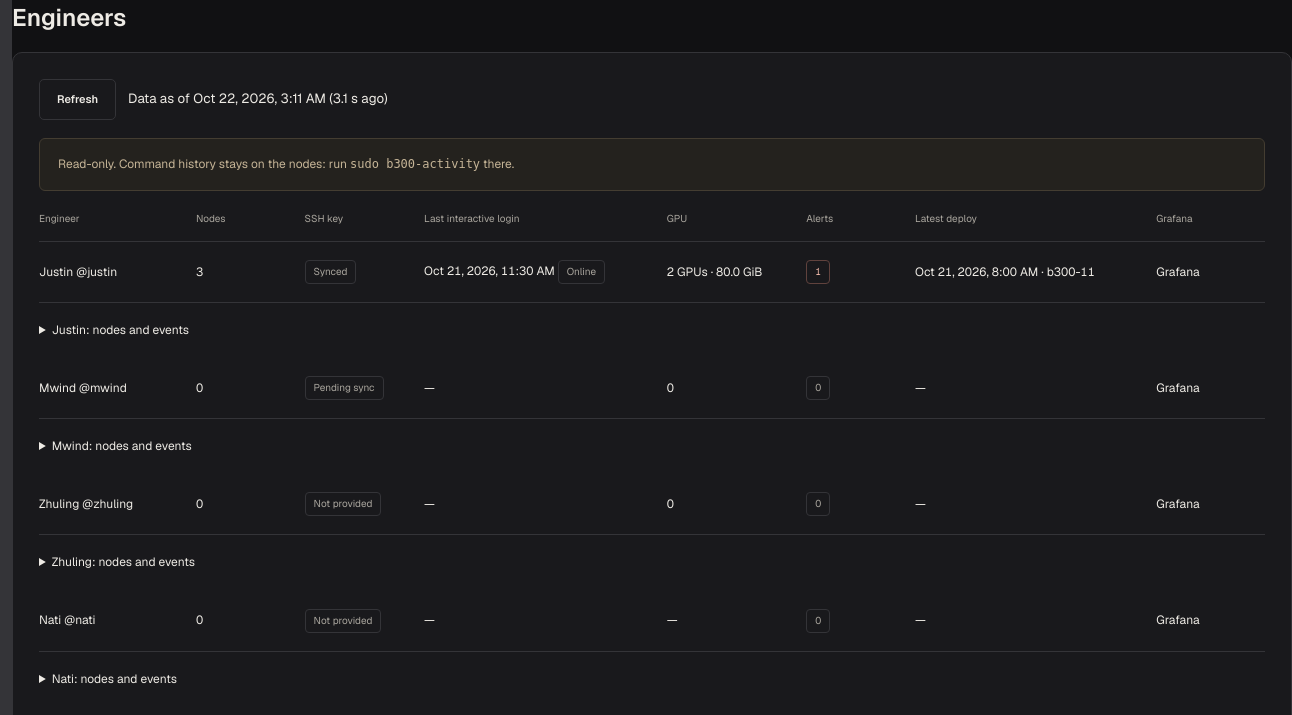
it: admin engineers section › renders roster and per-node usage
Expected: the heading "Engineers" is shown, [12,2,126,33]
Expected: the text "Data as of Oct 22, 2026, 3:11 AM (3.1 s ago)" is shown, [128,89,388,109]
Step 1. Click the heading "Justin: nodes and events" → [120, 330], box [52,322,189,338]
(page scrolled)
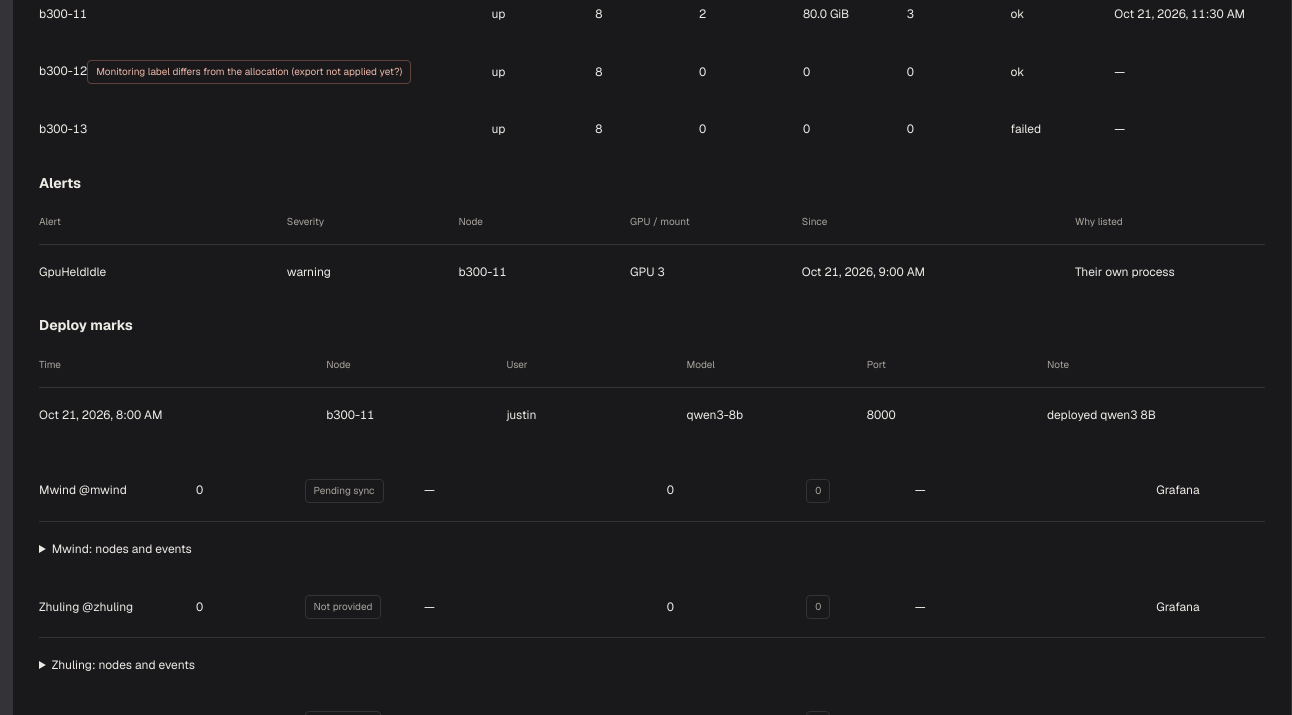
Expected: the text "b300-11" below "Status" is shown, [39,6,87,22]
Expected: the text "Monitoring label differs from the allocation (export not applied yet?)" is shown, [87,60,411,84]
Expected: the text "failed" is shown, [1010,102,1114,158]
